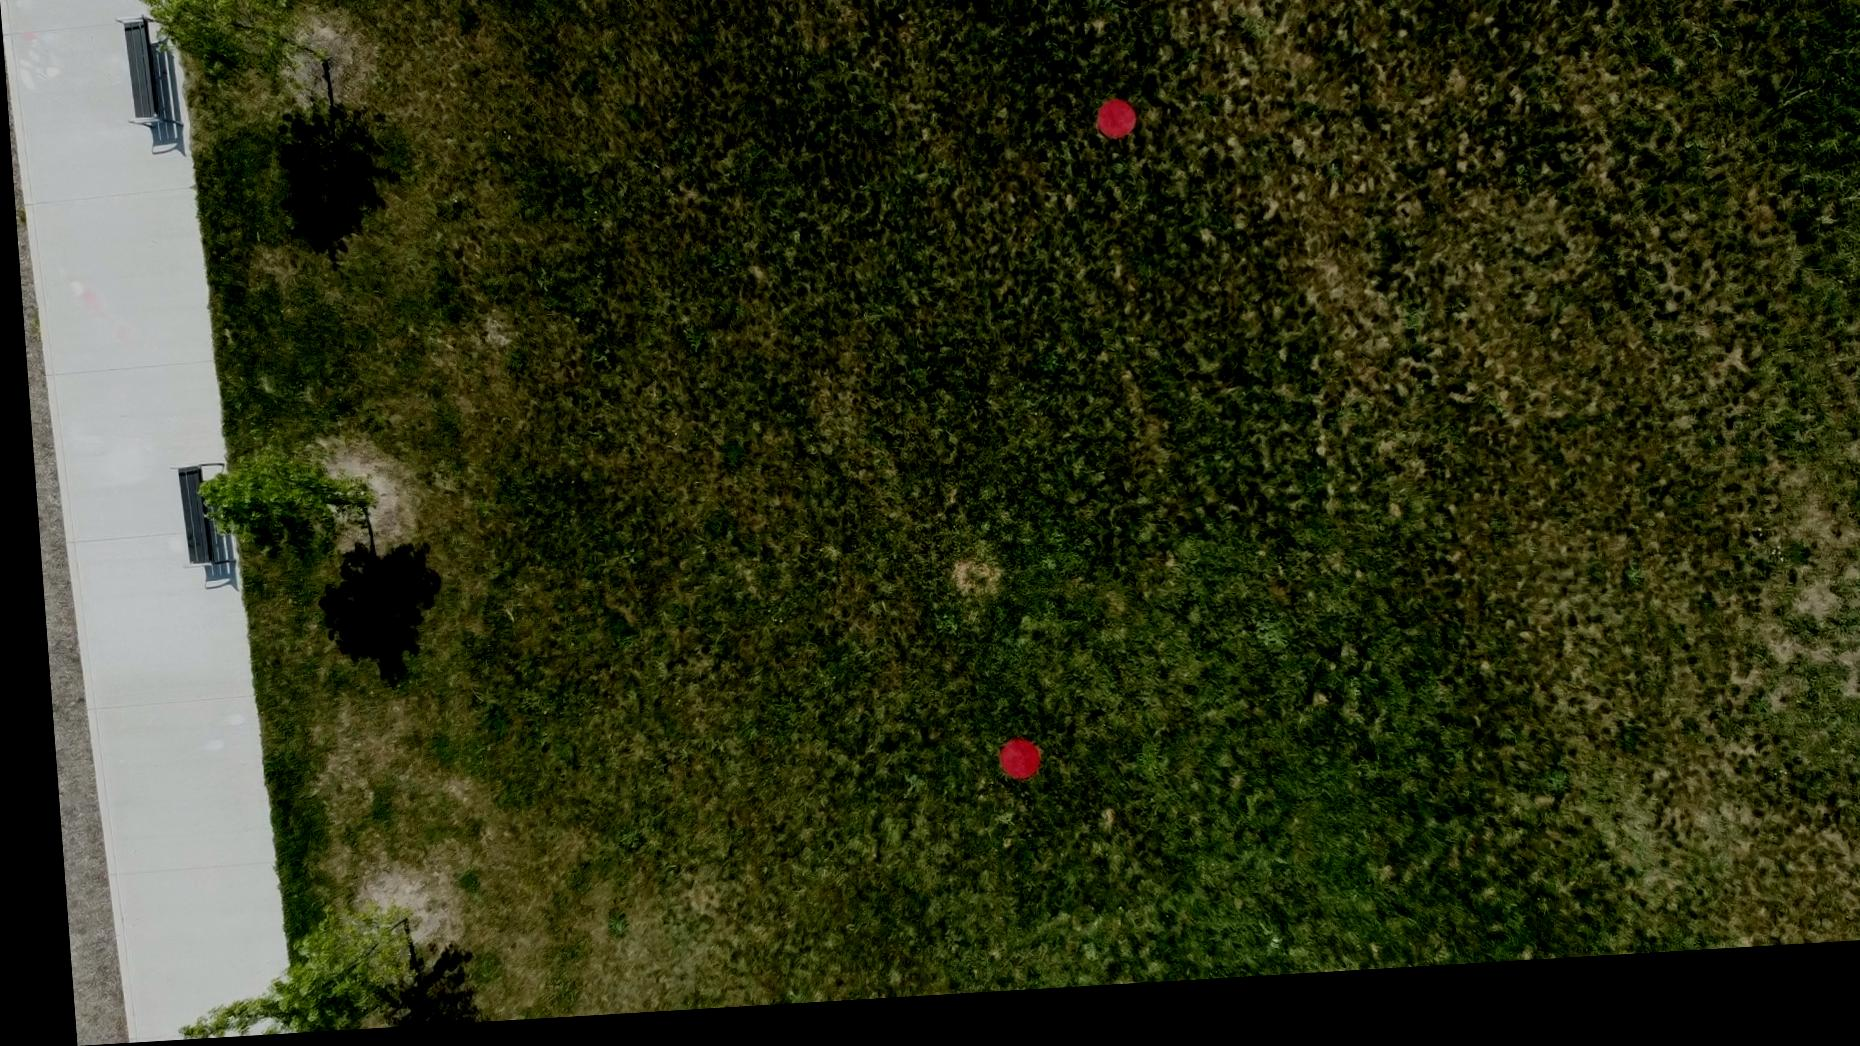Red: (984, 746, 1032, 797), (1091, 111, 1138, 156)
